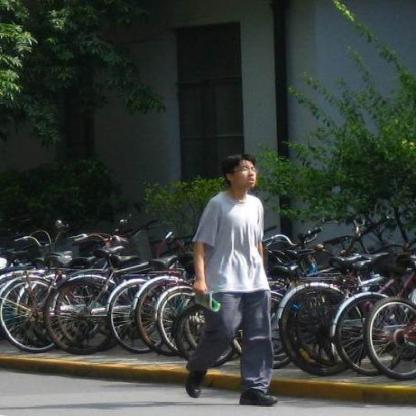person: (181, 154, 278, 409)
